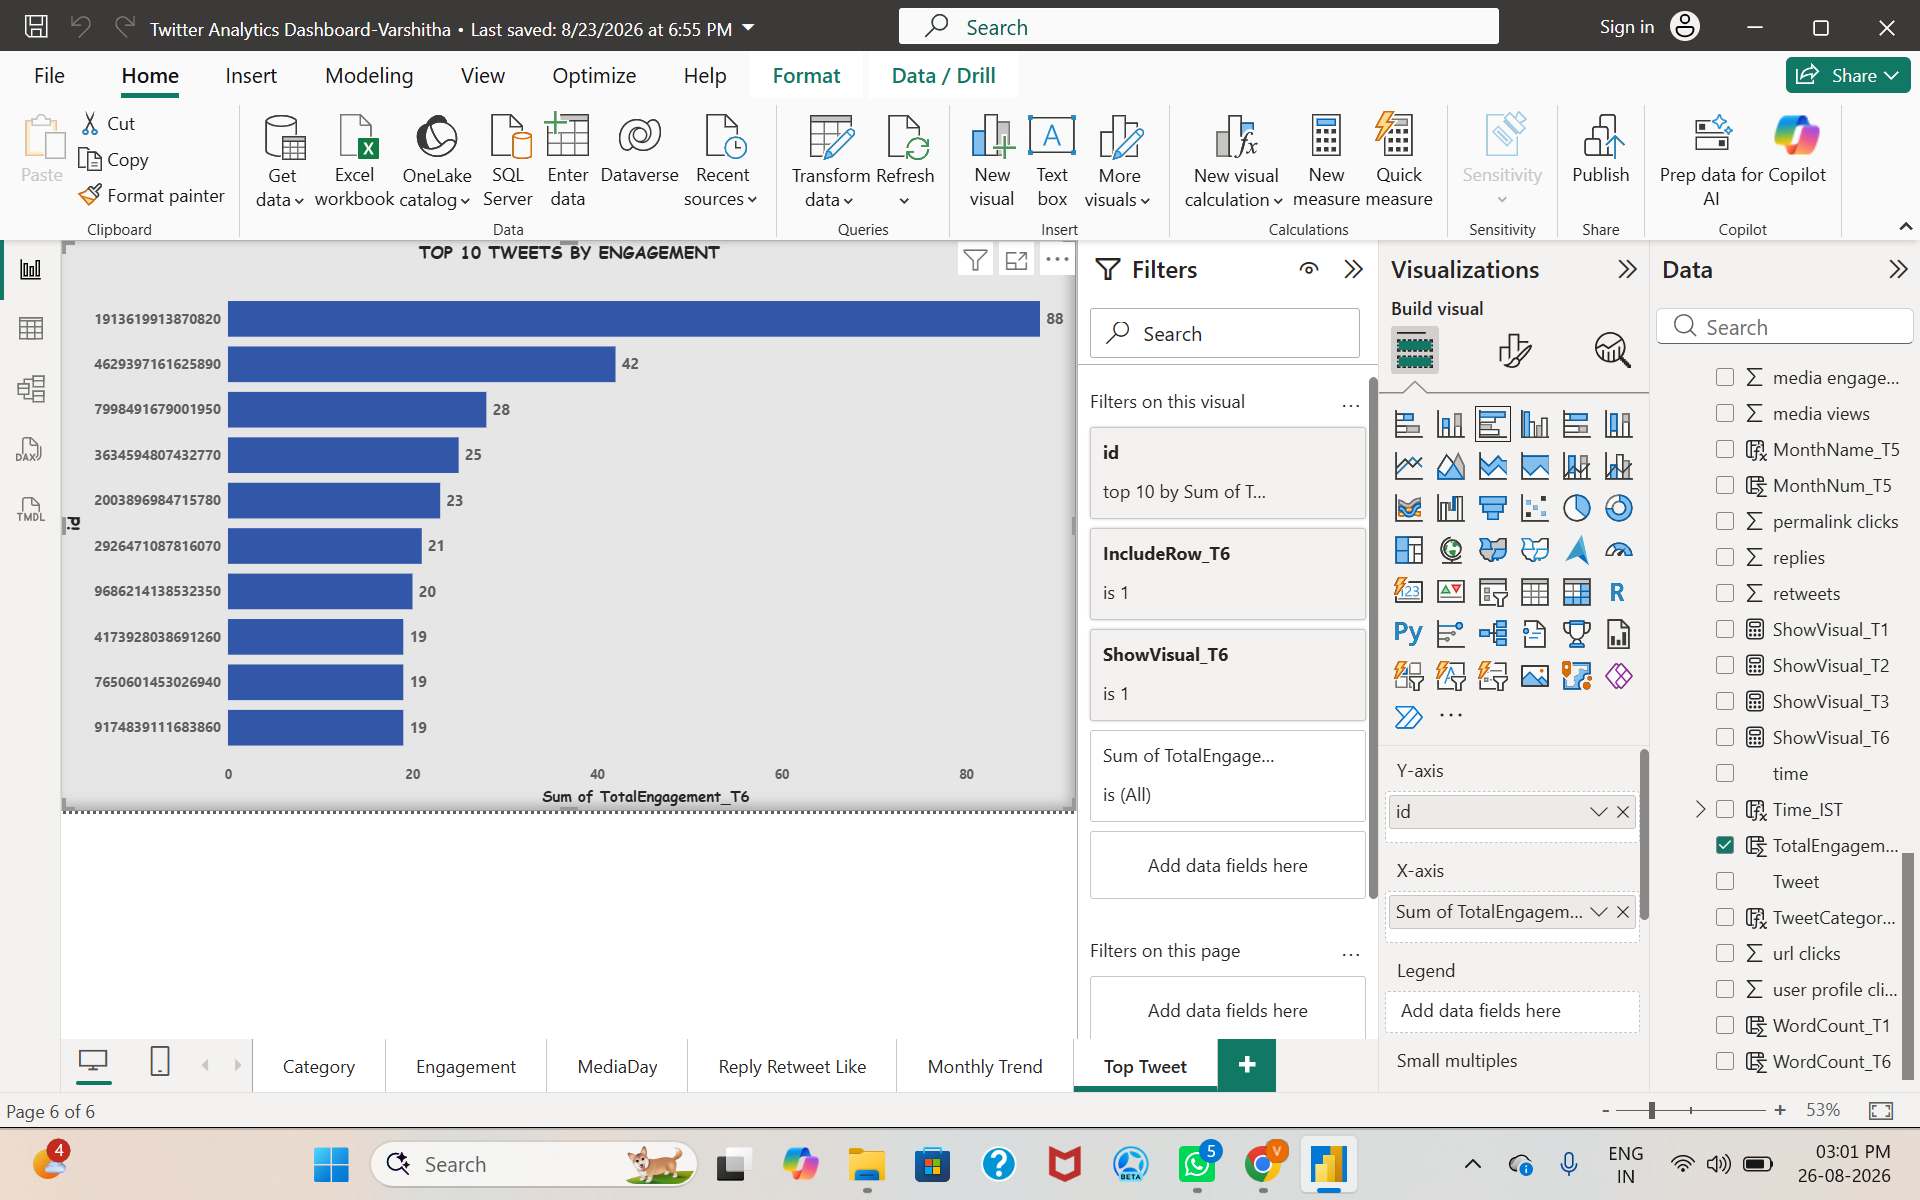

What the dashboard file says about the page in this screenshot:
{"tool":"powerbi","page":{"name":"Top Tweet","canvas":[1280,720],"ordinal":5},"visuals":[{"type":"clusteredBarChart","title":"TOP 10 TWEETS BY ENGAGEMENT","fields":{"Y":["Sum(SocialMedia (1).TotalEngagement_T6)"],"Category":["SocialMedia (1).id"]},"box":[0,0,1279.4,720],"z":0}]}

Visuals, with their boxes on the page's 1280x720 design canvas (x1, y1, x2, y2). These are canvas units, not pixel positions in the 1920x1200 screenshot, which may show the page scaled, cropped or inside an application window:
"TOP 10 TWEETS BY ENGAGEMENT" clusteredBarChart: (x1=0, y1=0, x2=1279, y2=720)
